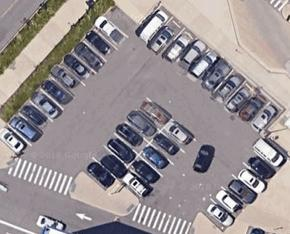parkingspot: (133, 4, 285, 138), (0, 13, 131, 161), (78, 95, 173, 193), (199, 137, 287, 234), (115, 117, 199, 205)
